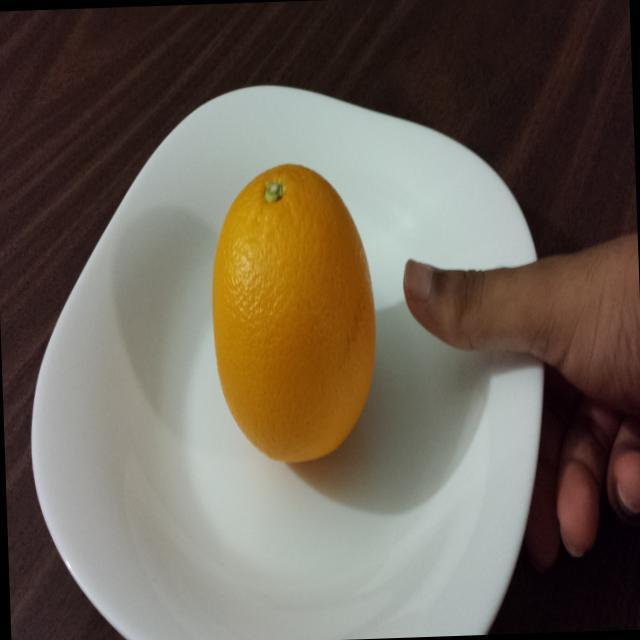Orange: (172, 146, 390, 480)
